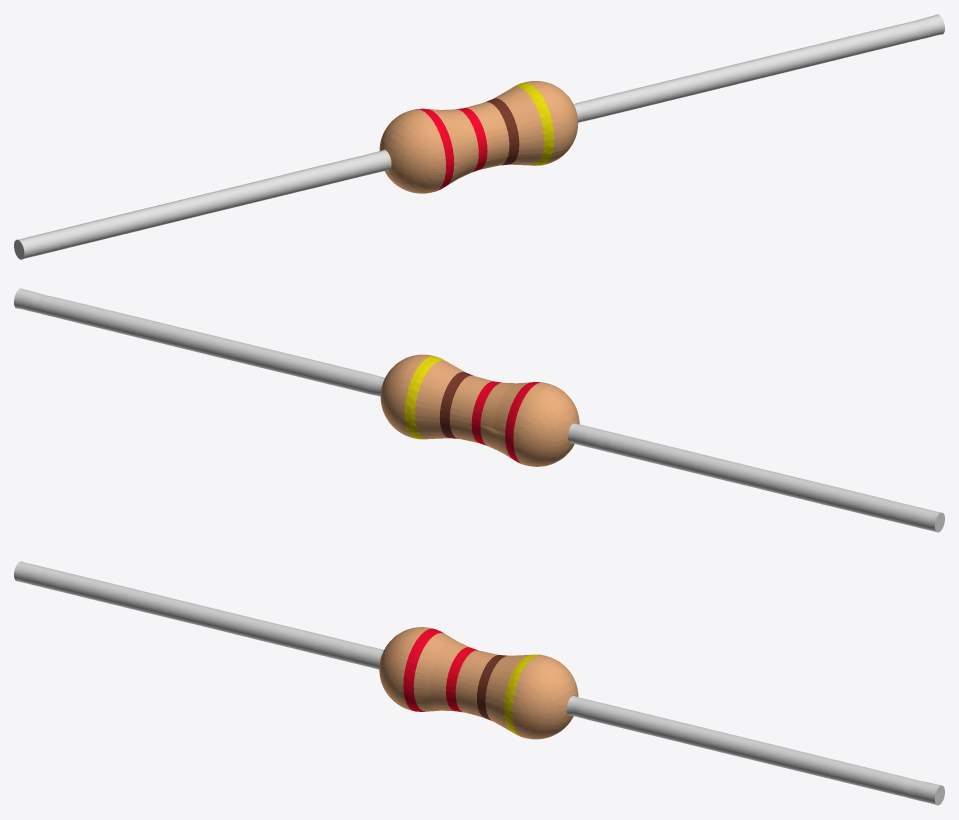
The model's file is resistor_220ohms.glb.
The picture shows the model from 3 angles, top to bottom: view 1: azimuth 30°, elevation 25°; view 2: azimuth 150°, elevation 25°; view 3: azimuth 330°, elevation 25°; orthographic projection.
Parts seen in each view (by area): view 1: METAL-material, CERAMICA-material, VERMELHO-material, OURO_003-material, MARRON-material; view 2: METAL-material, CERAMICA-material, VERMELHO-material, OURO_003-material, MARRON-material; view 3: METAL-material, CERAMICA-material, VERMELHO-material, OURO_003-material, MARRON-material.
Boxes of the visible parts, left/top/right/bottom form: METAL-material: left=14, top=14, right=944, bottom=259; CERAMICA-material: left=379, top=81, right=578, bottom=193; VERMELHO-material: left=417, top=108, right=487, bottom=190; OURO_003-material: left=513, top=82, right=554, bottom=165; MARRON-material: left=485, top=98, right=519, bottom=165; METAL-material: left=14, top=288, right=944, bottom=532; CERAMICA-material: left=380, top=354, right=579, bottom=466; VERMELHO-material: left=471, top=381, right=540, bottom=463; OURO_003-material: left=404, top=356, right=444, bottom=439; MARRON-material: left=439, top=372, right=473, bottom=438; METAL-material: left=14, top=561, right=944, bottom=805; CERAMICA-material: left=379, top=627, right=578, bottom=739; VERMELHO-material: left=403, top=628, right=477, bottom=712; OURO_003-material: left=504, top=654, right=540, bottom=736; MARRON-material: left=477, top=655, right=507, bottom=720.
Size of the model in its own units: 0.0299 by 0.00239 by 0.00241.
